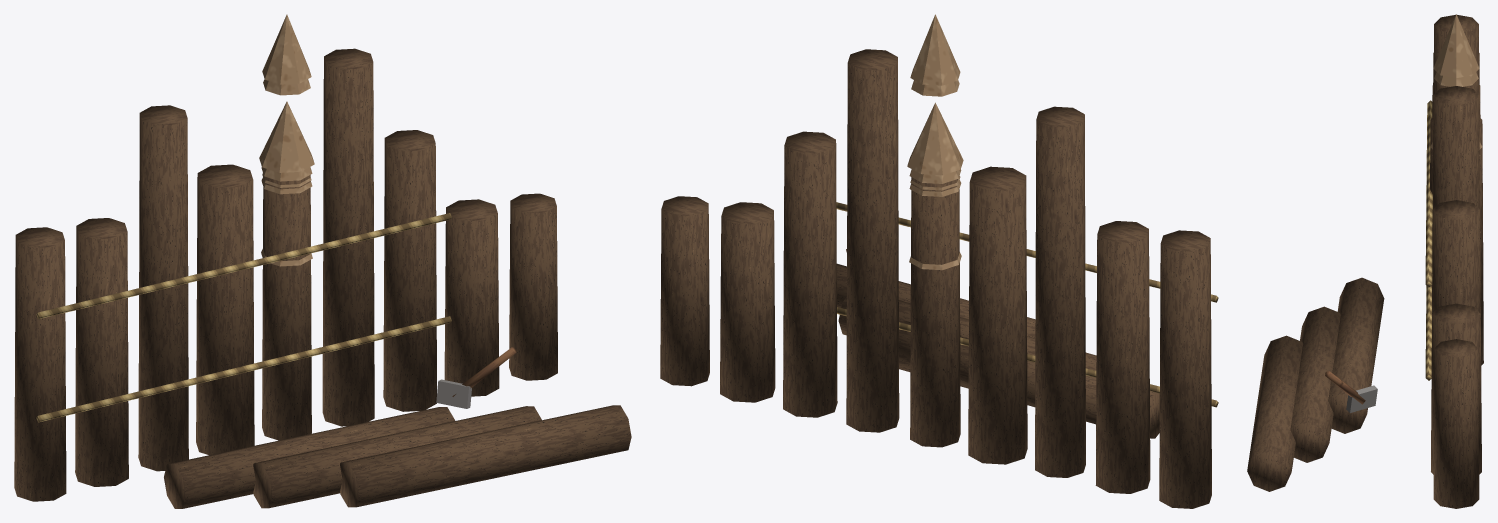
File: palisade_unfinished.glb
3 renders of one model, left to right at view 1: azimuth 30°, elevation 25°; view 2: azimuth 150°, elevation 25°; view 3: azimuth 270°, elevation 25°, orthographic. The views are drawn at different scales.
Visible parts, largest first — view 1: palisade_unfinished_logs, palisade_unfinished_ground_logs; view 2: palisade_unfinished_logs, palisade_unfinished_ground_logs; view 3: palisade_unfinished_logs, palisade_unfinished_ground_logs.
Boxes of the visible parts, box(x1,y1,x2,y2) form: palisade_unfinished_logs: box(14, 14, 557, 501); palisade_unfinished_ground_logs: box(164, 347, 631, 508); palisade_unfinished_logs: box(660, 14, 1218, 508); palisade_unfinished_ground_logs: box(836, 249, 1159, 438); palisade_unfinished_logs: box(1425, 14, 1483, 508); palisade_unfinished_ground_logs: box(1247, 277, 1384, 491).
Size of what is drawn, in the model's own units: 3.28 by 2.42 by 1.38.
Materials: 5 (5 with a texture image).
